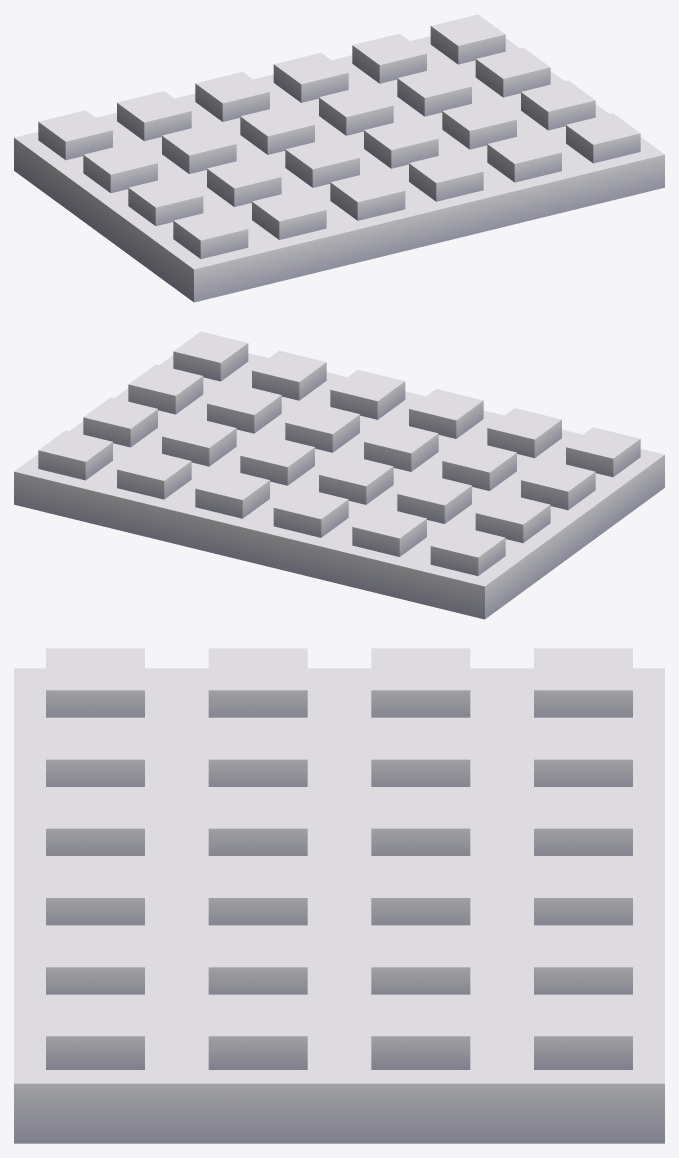
Rendered from kenney-brick-square-lq-plate-4-x-6.glb.
3 views of the same model, one above another, from view 1: azimuth 30°, elevation 25°; view 2: azimuth 150°, elevation 25°; view 3: azimuth 270°, elevation 25° (orthographic). The views are drawn at different scales.
Parts seen in each view (by area): view 1: square-lq-plate-4x6; view 2: square-lq-plate-4x6; view 3: square-lq-plate-4x6.
Part boxes in pixels (x1,y1,x2,y2): square-lq-plate-4x6: (14,14,664,302); square-lq-plate-4x6: (14,331,664,619); square-lq-plate-4x6: (14,648,664,1143).
Size of the model in its own units: 0.477 by 0.05 by 0.316.
Materials: 1 (1 with a texture image).
